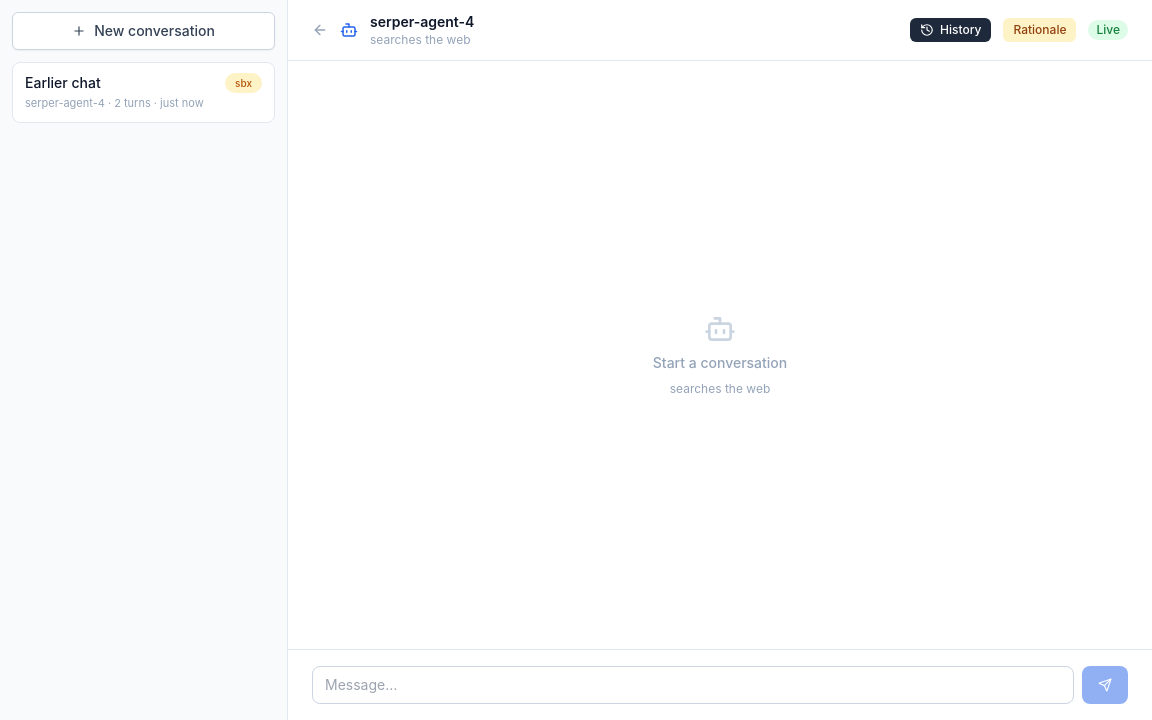
Scenario: AgentChatPage — POC-5 History & session seed › clicking a History row seeds that thread via listMemory(thread_id)
Note: History dock is open by default now — select a row directly.
Step 1. Click the text "Earlier chat" → [63, 83], box [25,73,101,93]
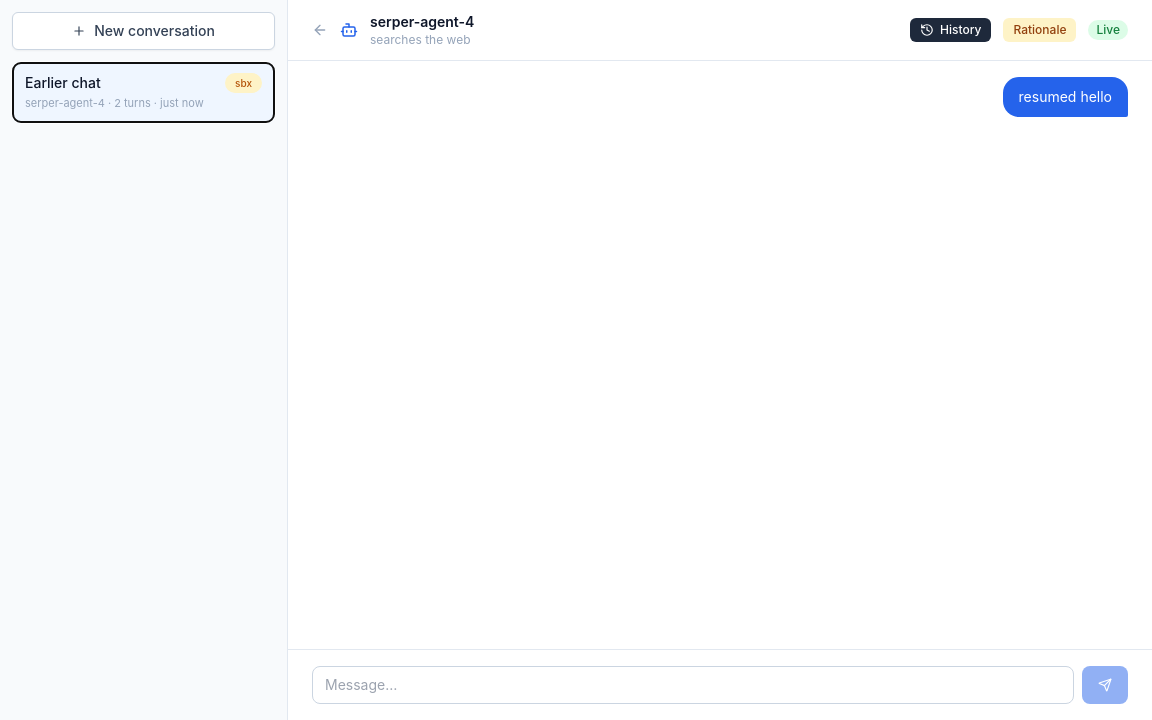
Result: the text "resumed hello" is shown at [1003,77,1128,117]
